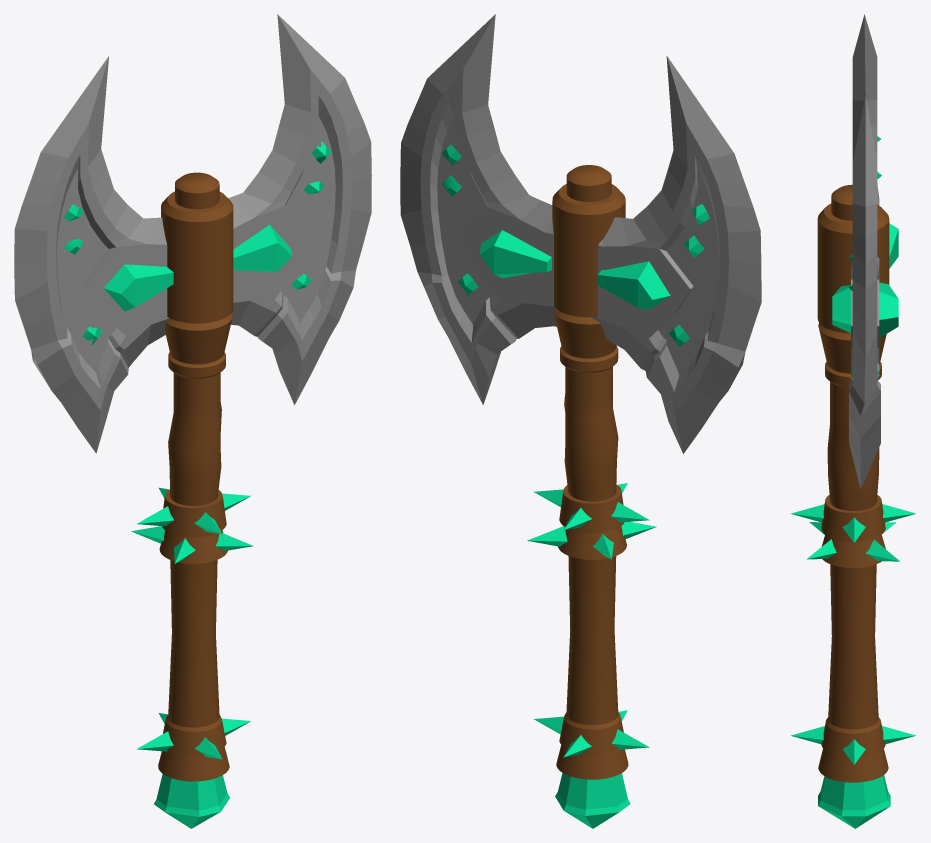
The model's file is balta.glb.
The picture shows the model from 3 angles, left to right: view 1: azimuth 30°, elevation 25°; view 2: azimuth 150°, elevation 25°; view 3: azimuth 270°, elevation 25°; orthographic projection. The views are drawn at different scales.
Visible parts, largest first — view 1: Plane.008, Cylinder, Cylinder.001, Cube.002, Plane.001, Plane.007, Plane.003, Plane.006, Plane.002; view 2: Plane.008, Cylinder, Cylinder.001, Cube.002, Plane.001, Plane.007, Plane.004, Plane.002, Plane.006; view 3: Cylinder.001, Plane.008, Cylinder, Plane.001, Cube.002, Plane, Plane.005, Plane.004, Plane.003, Plane.006, Plane.002.
Part boxes in pixels (x1,y1,x2,y2): Plane.008: (14,14,371,453); Cylinder: (161,172,233,505); Cylinder.001: (158,489,229,781); Cube.002: (104,224,291,311); Plane.001: (154,774,229,828); Plane.007: (64,142,331,344); Plane.003: (131,526,253,550); Plane.006: (136,718,250,751); Plane.002: (137,493,250,526); Plane.008: (400,14,761,453); Cylinder: (552,165,625,501); Cylinder.001: (556,484,628,779); Cube.002: (479,230,670,309); Plane.001: (555,773,630,828); Plane.007: (442,144,709,346); Plane.004: (527,522,656,546); Plane.002: (533,489,649,522); Plane.006: (533,716,649,749); Cylinder.001: (818,495,888,782); Plane.008: (849,14,880,489); Cylinder: (817,184,889,510); Plane.001: (818,775,890,828); Cube.002: (832,223,898,337); Plane: (791,504,915,522); Plane.005: (791,726,915,744); Plane.004: (809,522,899,561); Plane.003: (806,522,896,559); Plane.006: (842,739,865,764); Plane.002: (842,517,865,542).
Size of the model in its own units: 2.15 by 4.53 by 0.6677.
